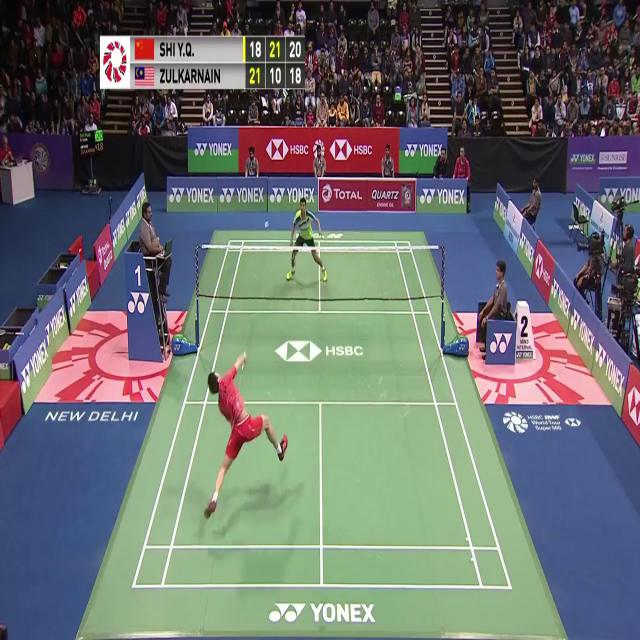Shuttlecock: (263, 217, 270, 229)
